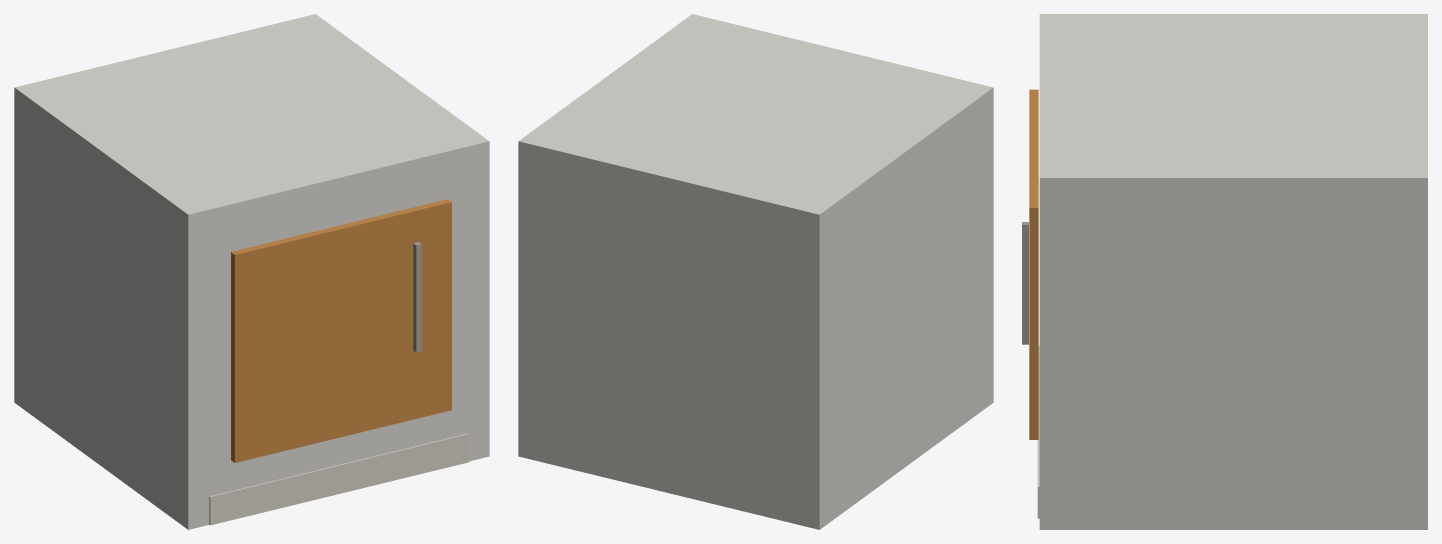
The model's file is flatBaseDoor.glb.
3 views of the same model, side by side, from view 1: azimuth 30°, elevation 25°; view 2: azimuth 150°, elevation 25°; view 3: azimuth 270°, elevation 25° (orthographic). The views are drawn at different scales.
Parts seen in each view (by area): view 1: body, door, toeKick, handle; view 2: body; view 3: body, door, handle.
Boxes of the visible parts, left/top/right/bottom form: body: left=14, top=14, right=489, bottom=529; door: left=231, top=199, right=451, bottom=462; toeKick: left=209, top=433, right=469, bottom=525; handle: left=413, top=242, right=421, bottom=352; body: left=518, top=14, right=993, bottom=529; body: left=1039, top=14, right=1427, bottom=529; door: left=1029, top=89, right=1038, bottom=439; handle: left=1022, top=222, right=1028, bottom=344.
Bounding box in the file's own units: 1 × 1 × 1.04.
